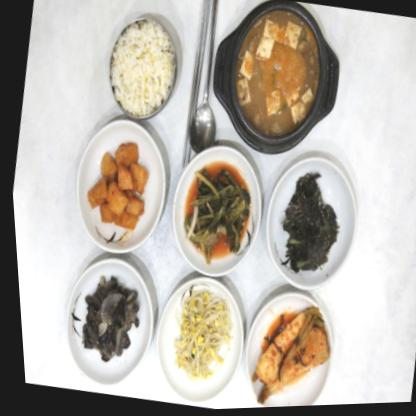chonggak Kimchi: (239, 300, 332, 409)
miso soup: (219, 1, 332, 152)
radish Kimchi: (73, 138, 154, 244)
rice ball: (100, 18, 182, 123)
seasoned bean sprouts: (160, 282, 235, 386)
spinach greens: (272, 176, 341, 282)
young radish Kimchi: (175, 160, 257, 266)
